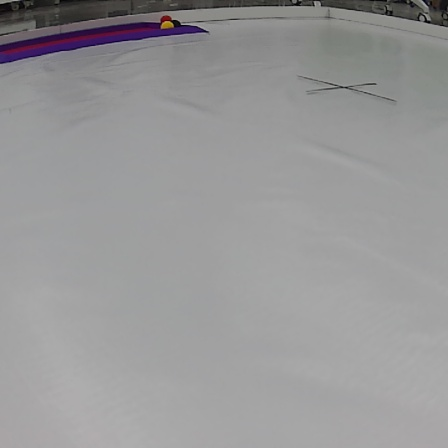black: (173, 21, 182, 27)
red: (159, 15, 171, 19)
red_aim: (0, 21, 212, 66)
yellow: (160, 22, 173, 32)
